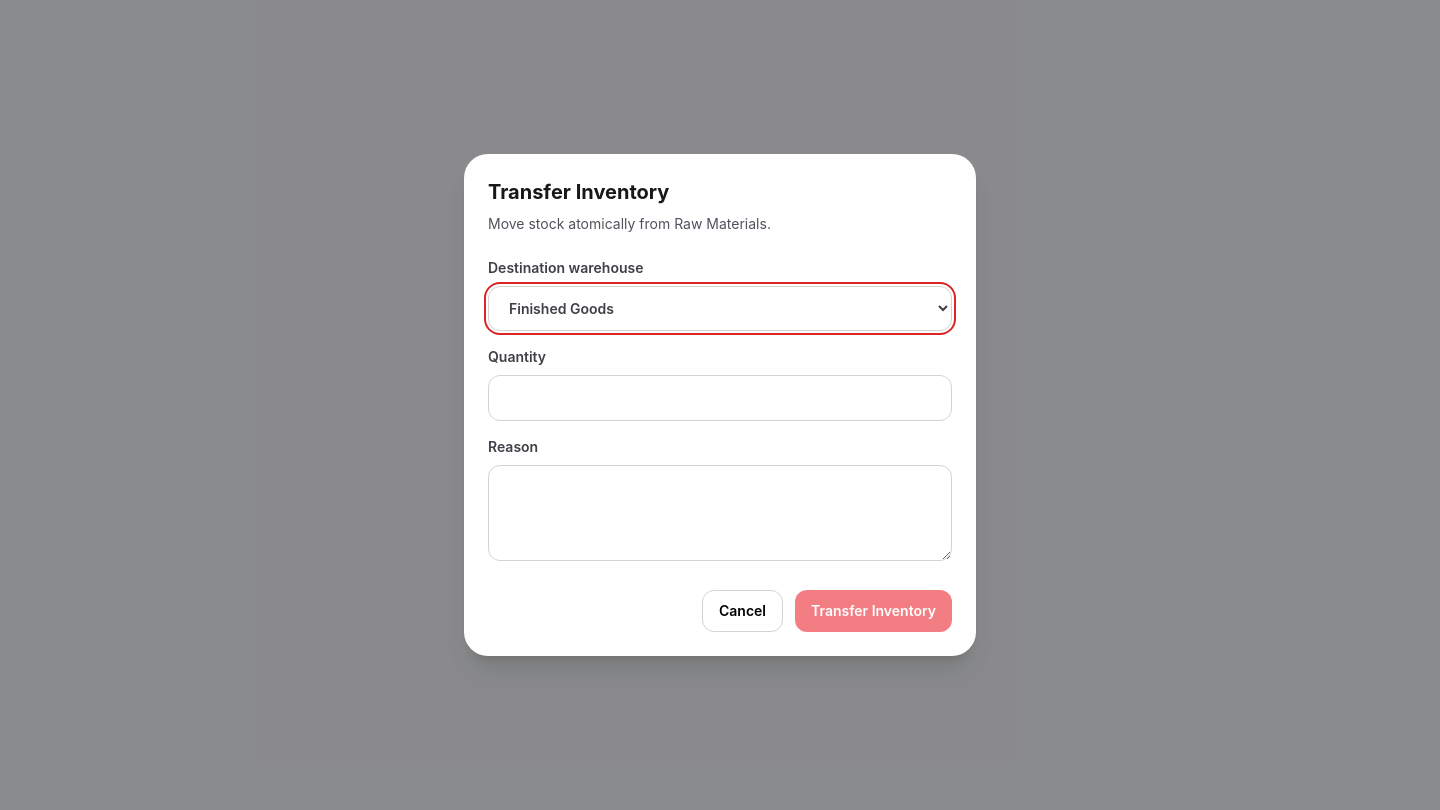
Test: InventoryTransferDialog › contains focus and blocks Escape while submitting
The image size is (1440, 810).
Press Tab
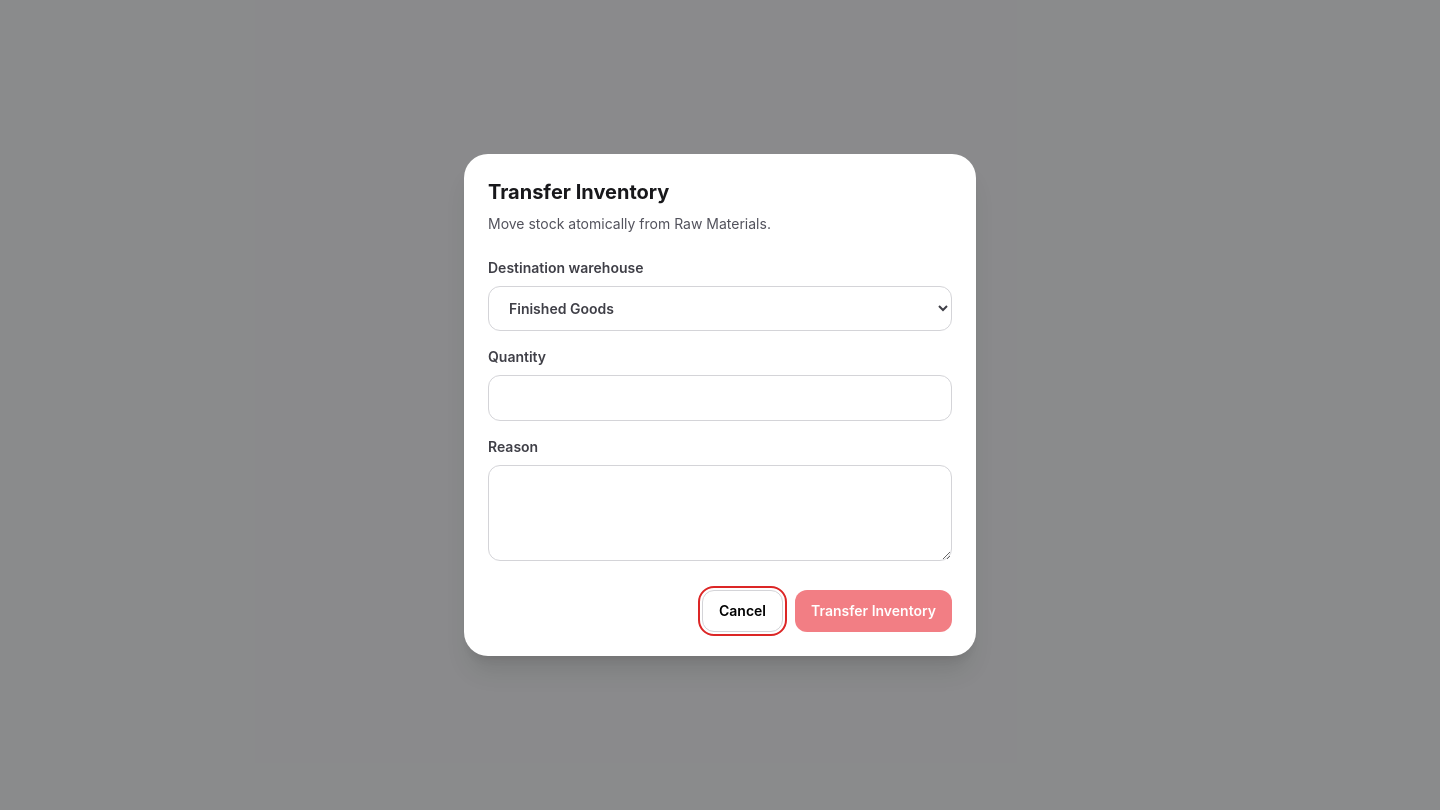
Type "1" into the number field labelled "Quantity" at (720, 398), box [488,375,952,421]
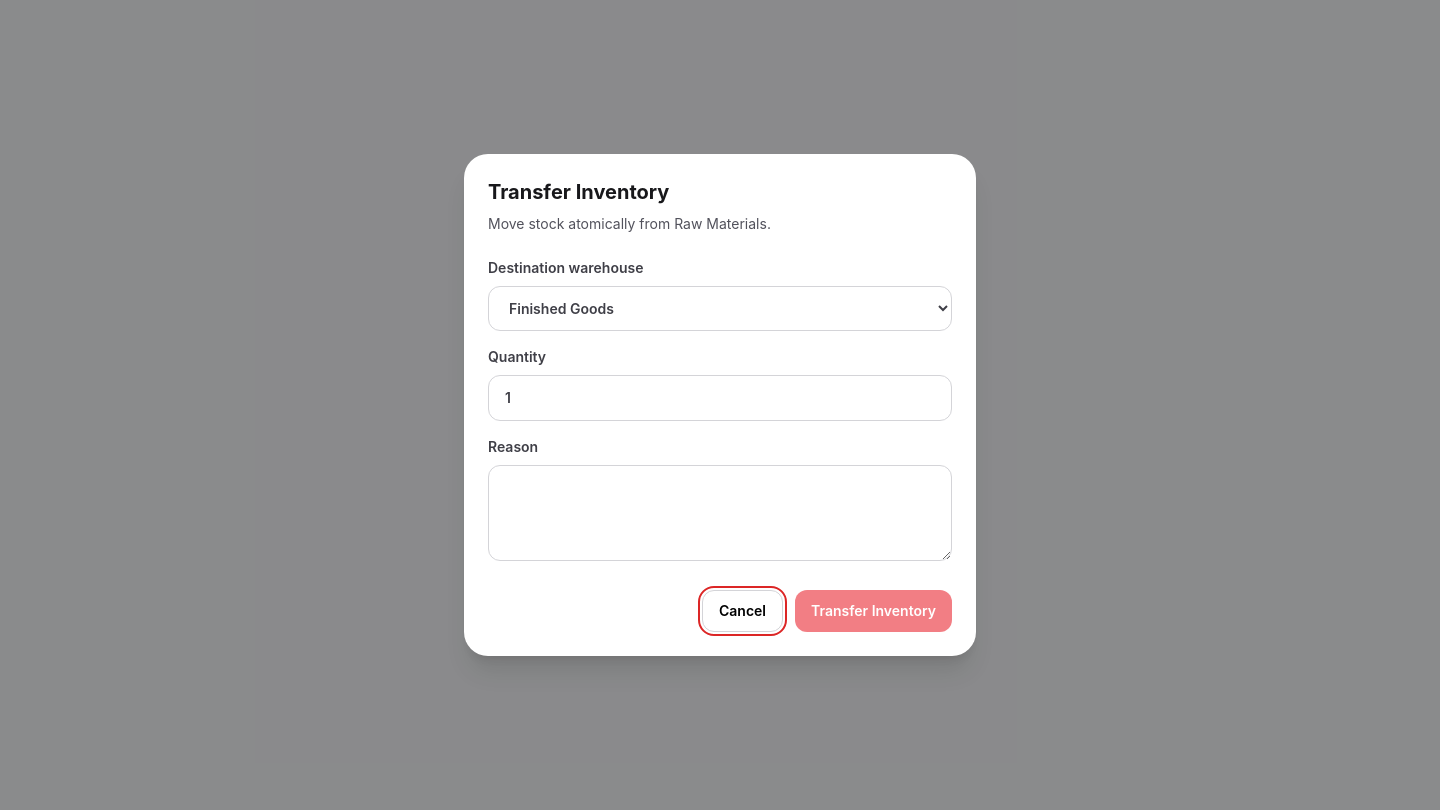
Type "Move" into the text box labelled "Reason" at (720, 513), box [488,465,952,561]
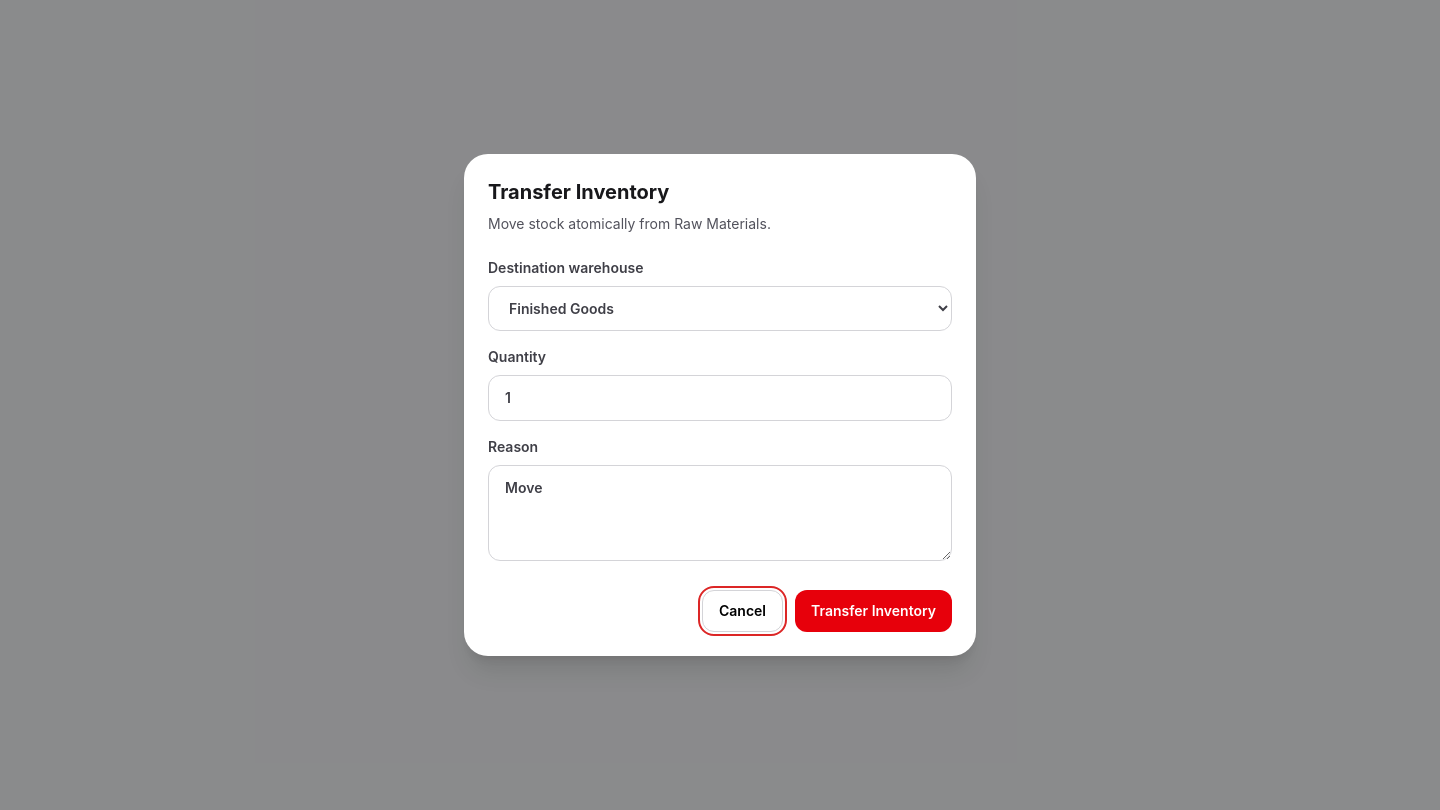
Click the button "Transfer Inventory" at (874, 611), box [795,590,952,632]
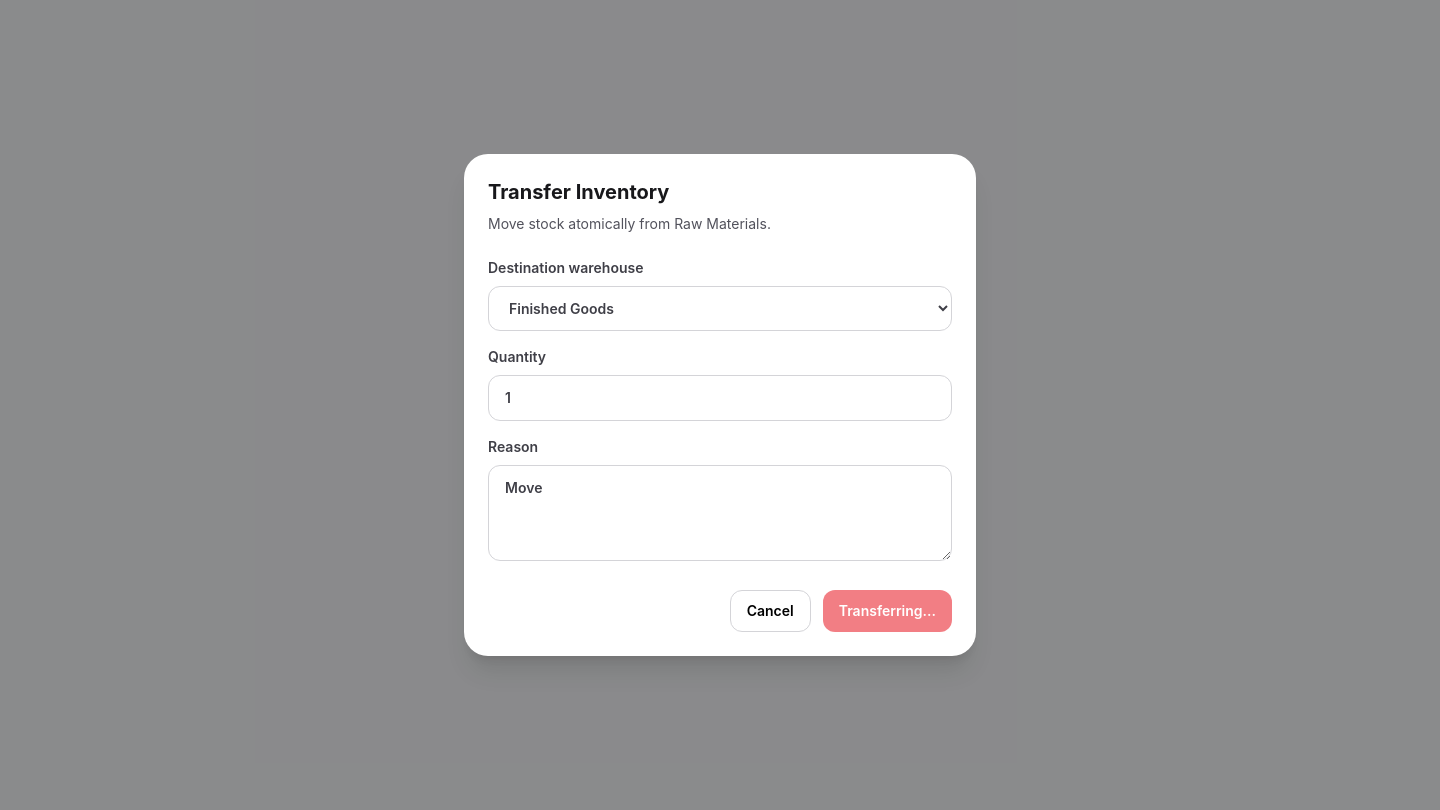
Press Escape
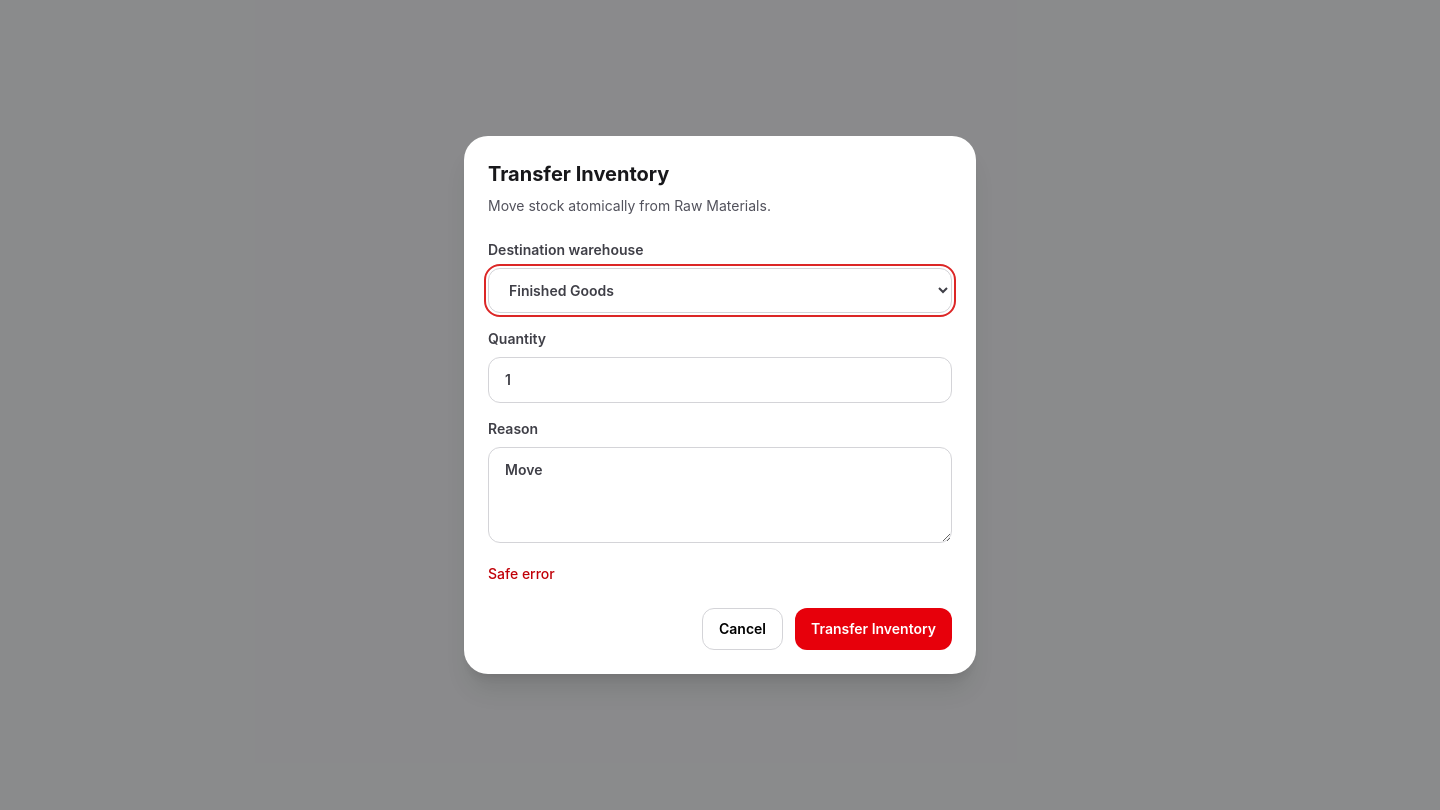
Check: the message reads "Safe error", box [488,565,555,582]
